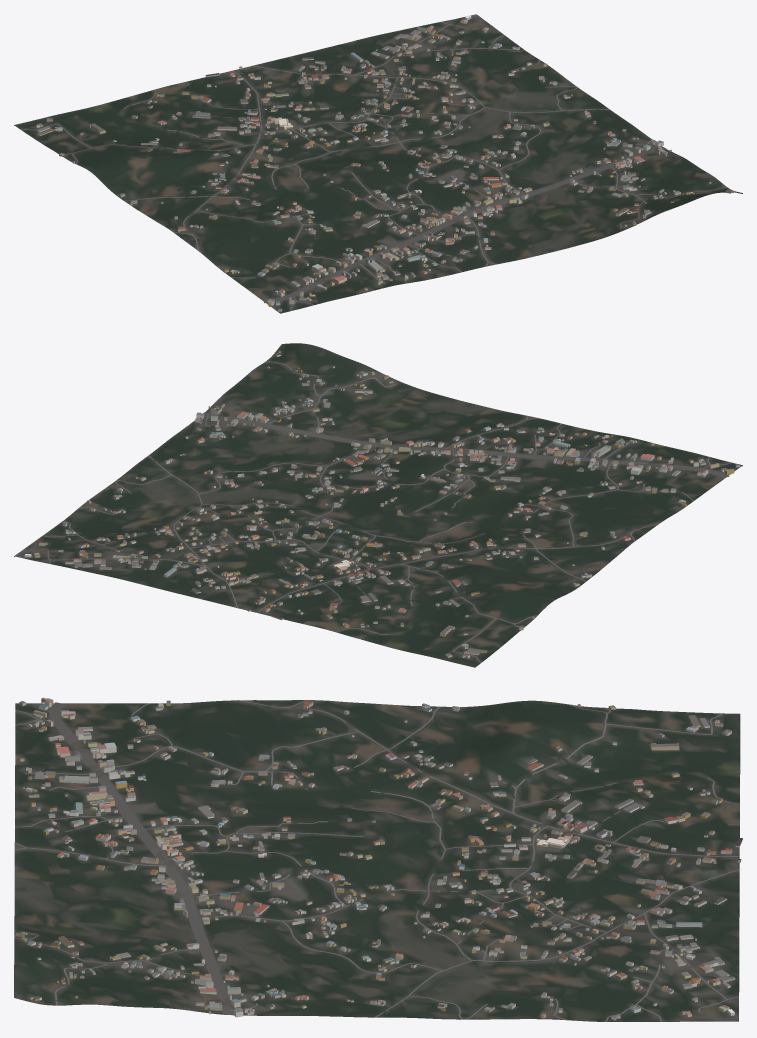
3 views of the same model, one above another, from view 1: azimuth 30°, elevation 25°; view 2: azimuth 150°, elevation 25°; view 3: azimuth 270°, elevation 25° (orthographic). The views are drawn at different scales.
Parts seen in each view (by area): view 1: ground, buildings, roads; view 2: ground, buildings, roads; view 3: ground, buildings, roads.
Part boxes in pixels (x1,y1,x2,y2): ground: [14, 14, 742, 313]; buildings: [36, 15, 734, 311]; roads: [20, 21, 726, 310]; ground: [14, 343, 742, 667]; buildings: [24, 350, 740, 658]; roads: [42, 361, 731, 662]; ground: [14, 700, 740, 1021]; buildings: [15, 697, 742, 1020]; roads: [14, 700, 739, 1021].
Size of the model in its own units: 1413 by 72.2 by 1410.
